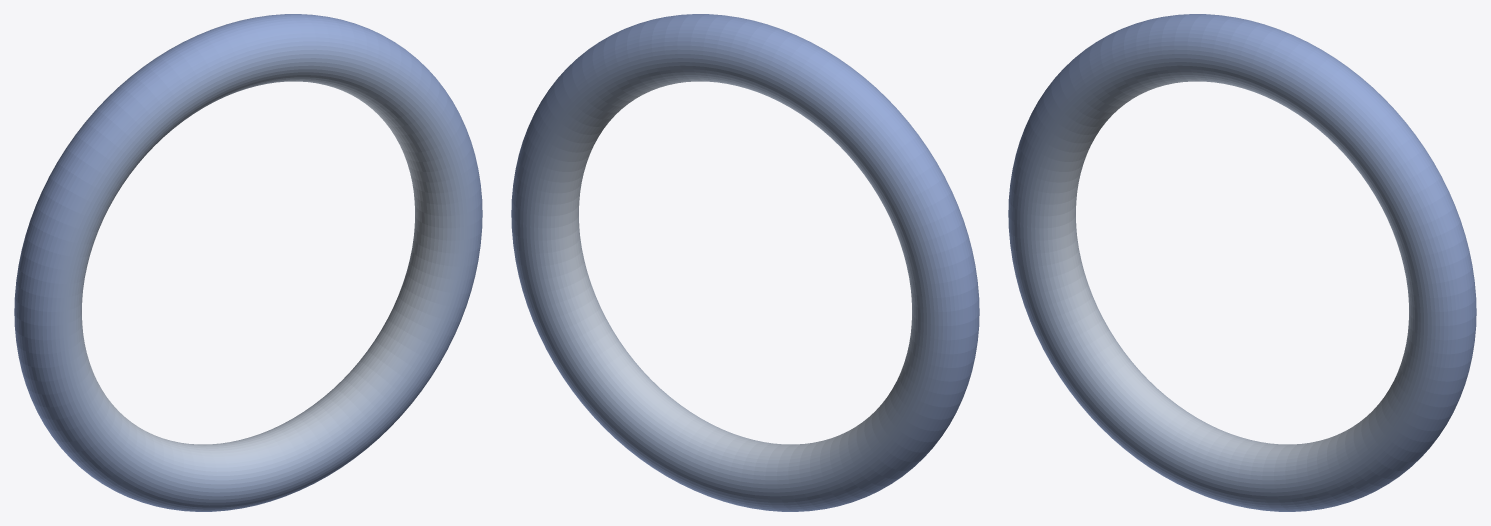
The picture shows the model from 3 angles, left to right: view 1: azimuth 30°, elevation 25°; view 2: azimuth 150°, elevation 25°; view 3: azimuth 330°, elevation 25°; orthographic projection.
Visible parts, largest first — view 1: world; view 2: world; view 3: world.
Boxes of the visible parts, x1,y1,x2,y2 form: world: (14,14,482,511); world: (511,14,979,511); world: (1008,14,1476,511).
Bounding box in the file's own units: 28.27 × 28.27 × 3.59.
